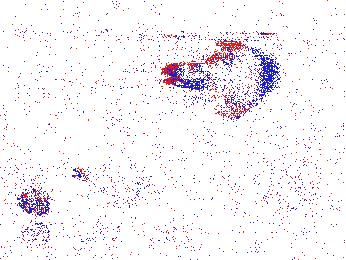flame jellyfish: (160, 40, 273, 118), (70, 162, 139, 218), (3, 164, 57, 216)
